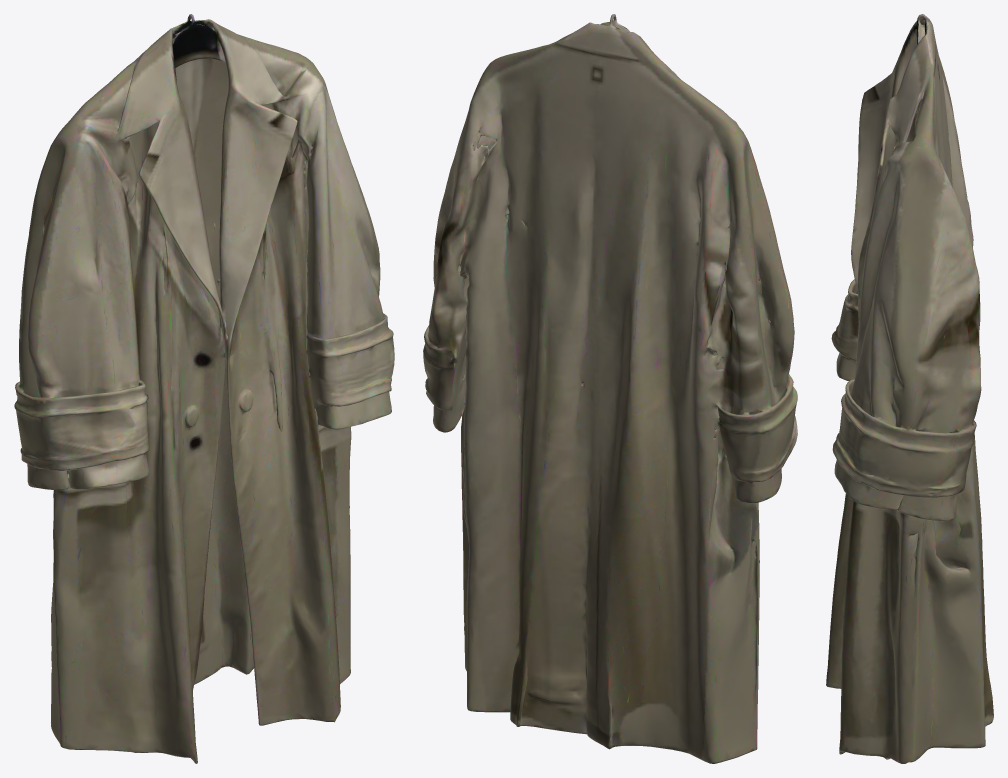
Rendered from coat.glb.
The picture shows the model from 3 angles, left to right: view 1: azimuth 30°, elevation 25°; view 2: azimuth 150°, elevation 25°; view 3: azimuth 270°, elevation 25°; orthographic projection. The views are drawn at different scales.
Parts seen in each view (by area): view 1: world_1; view 2: world_1; view 3: world_1.
Boxes of the visible parts, bbox=[...] form: world_1: bbox=[14, 14, 394, 763]; world_1: bbox=[423, 14, 797, 763]; world_1: bbox=[826, 14, 993, 763].
Size of the model in its own units: 0.5215 by 1 by 0.2193.
1 material, 1 textured.
